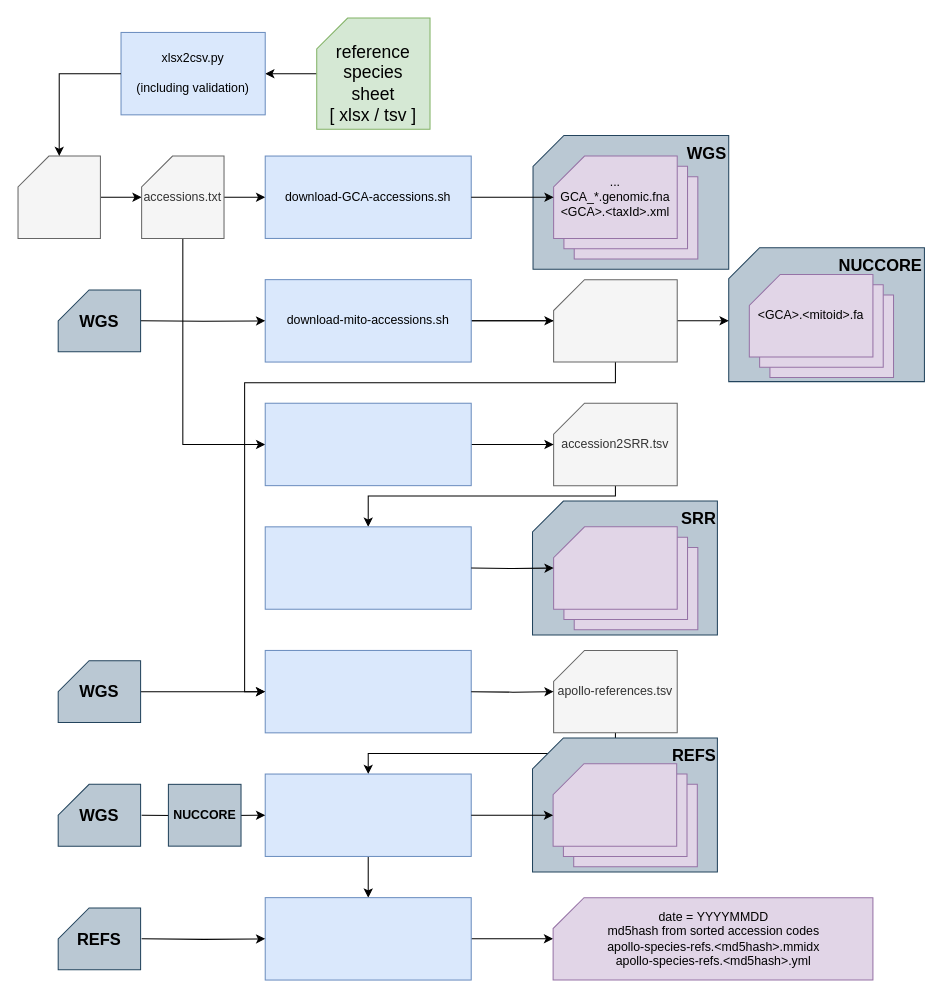
Some shapes in this 942 by 998 pixel diagram are drawn without their labels. Each missing label, with the centre of its shape:
"<GCA>+<mito>.fa" goes at (x=614, y=804).
"build-identify-species-index.sh" goes at (x=367, y=938).
"build-species-references.sh" goes at (x=367, y=814).
"generate_reference_..._df.py" goes at (x=367, y=691).
"included.mito.tsv selected.mito.tsv provided.mito.tsv" goes at (x=615, y=320).
"link-accessions-to-SRR.sh" goes at (x=367, y=444).
"link-accessions-to-SRR.sh --download" goes at (x=367, y=567).
"SRR*_1.fq.gz SRR*_2.fq.gz" goes at (x=615, y=567).
"supported-reference-species.tsv" goes at (x=58, y=196).
